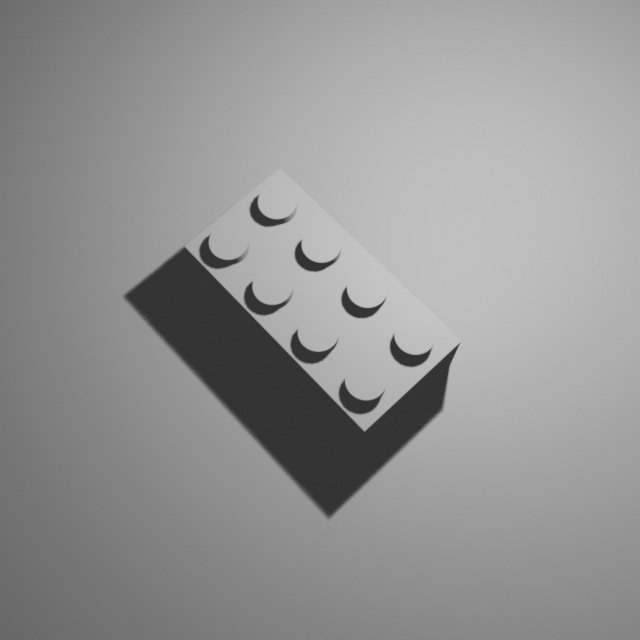lego_2x4: (182, 162, 463, 449)
